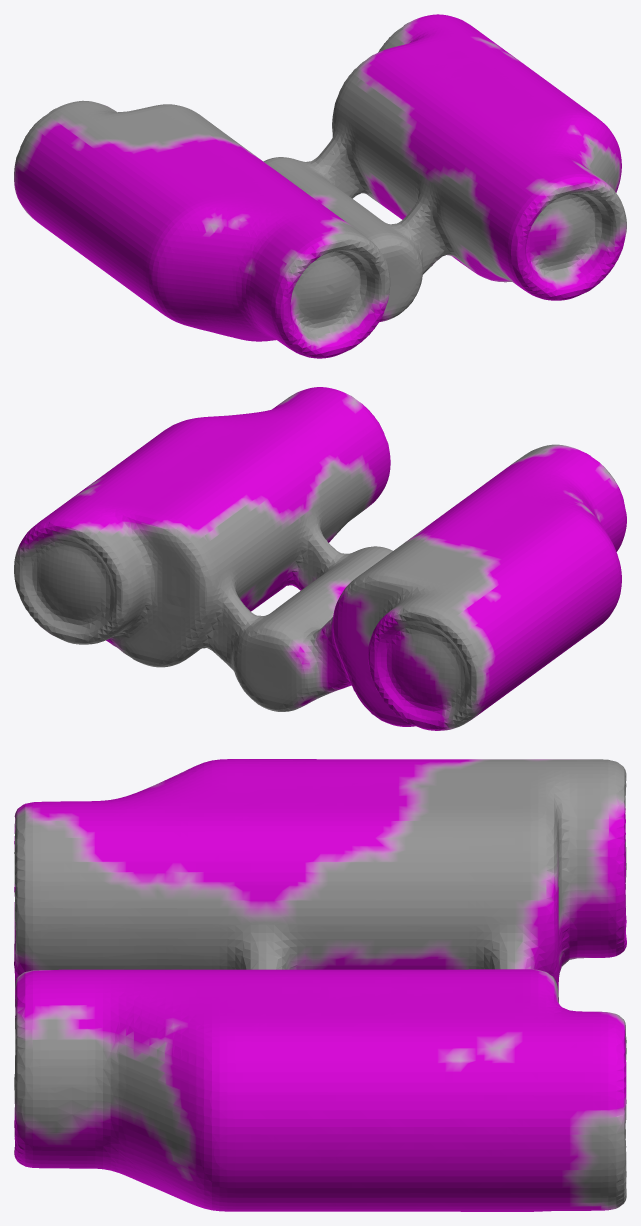
The model's file is binoculars.glb.
3 renders of one model, top to bottom at view 1: azimuth 30°, elevation 25°; view 2: azimuth 150°, elevation 25°; view 3: azimuth 270°, elevation 25°, orthographic. The views are drawn at different scales.
Parts seen in each view (by area): view 1: binoculars.obj; view 2: binoculars.obj; view 3: binoculars.obj.
Part boxes in pixels (bbox=[...]): binoculars.obj: bbox=[14, 14, 626, 358]; binoculars.obj: bbox=[14, 387, 626, 730]; binoculars.obj: bbox=[14, 759, 626, 1211].
Size of the model in its own units: 0.1416 by 0.0477 by 0.109.
